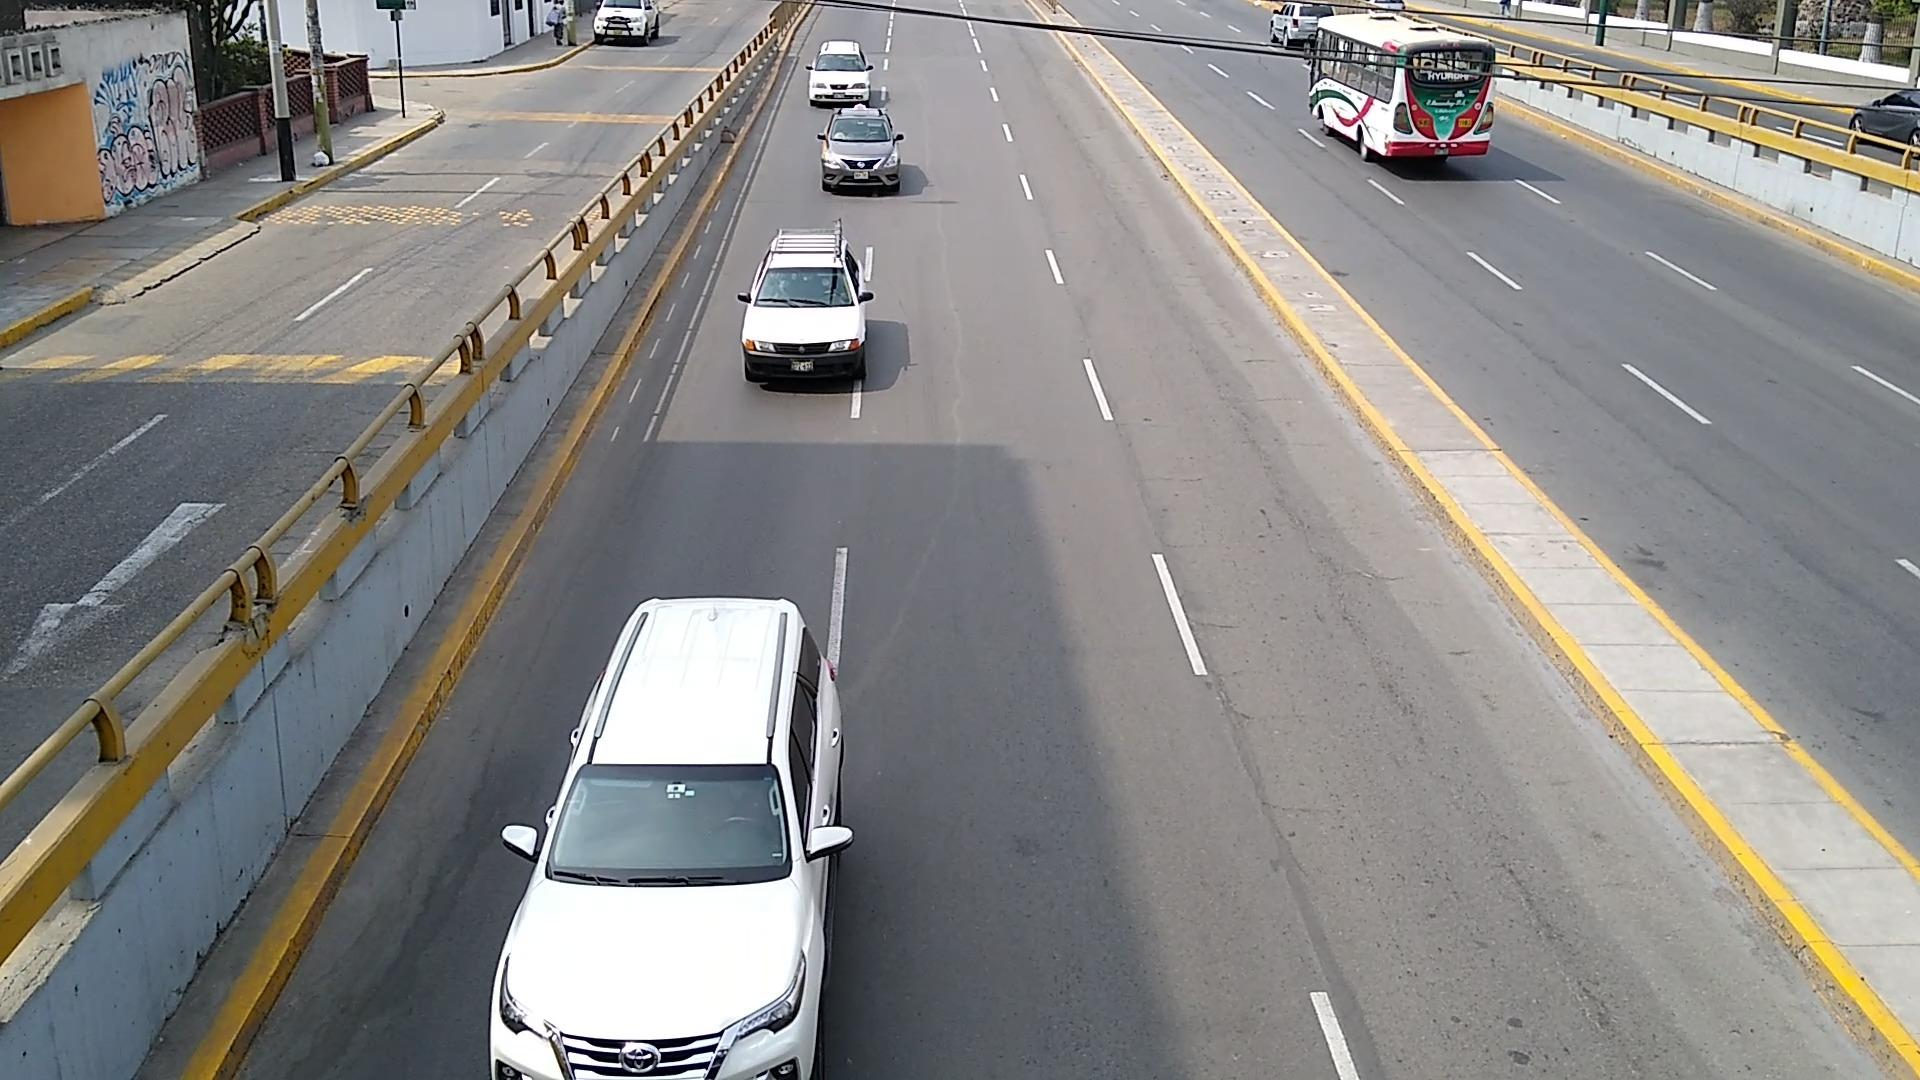bus: (1308, 12, 1497, 157)
car: (492, 600, 852, 1080), (735, 225, 874, 382), (818, 105, 903, 195), (806, 37, 870, 103)
